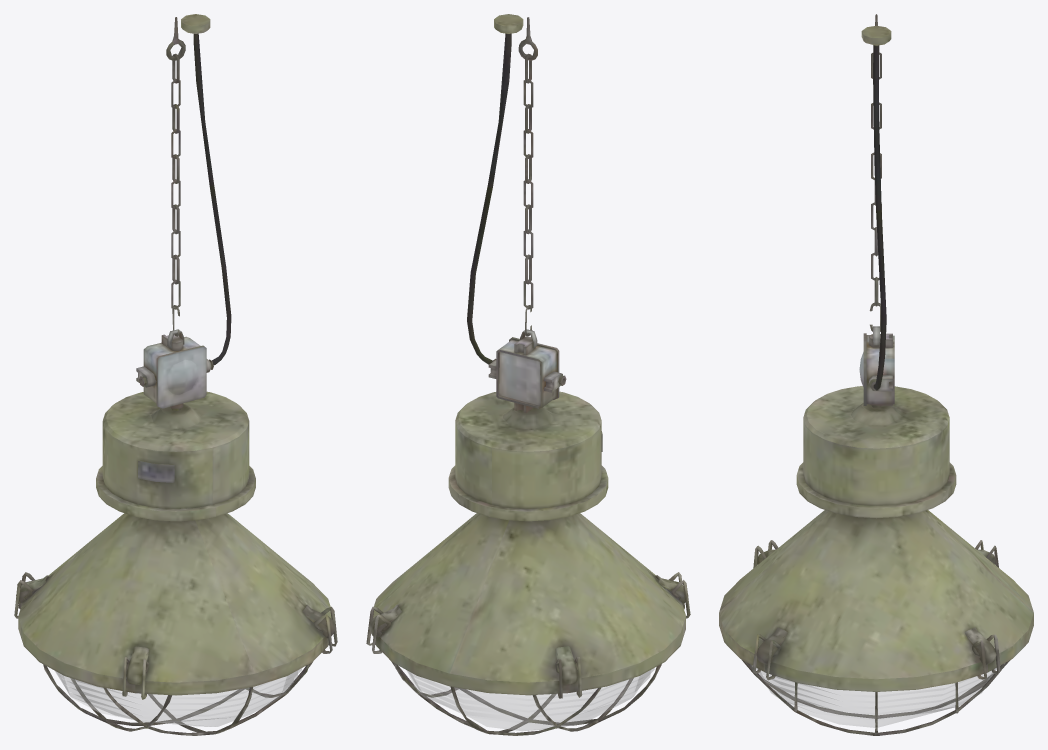
File: hanging_industrial_lamp.22e18320.glb
3 views of the same model, side by side, from view 1: azimuth 30°, elevation 25°; view 2: azimuth 150°, elevation 25°; view 3: azimuth 270°, elevation 25° (orthographic).
Parts seen in each view (by area): view 1: hanging_industrial_lamp; view 2: hanging_industrial_lamp; view 3: hanging_industrial_lamp.
Boxes of the visible parts, <box> form: hanging_industrial_lamp: <box>14,14,337,735</box>; hanging_industrial_lamp: <box>366,14,690,735</box>; hanging_industrial_lamp: <box>719,14,1033,735</box>.
Size of the model in its own units: 0.5497 by 1.36 by 0.5497.
Materials: 2 (1 with a texture image).
